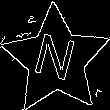N_S: (31, 30, 81, 89)
